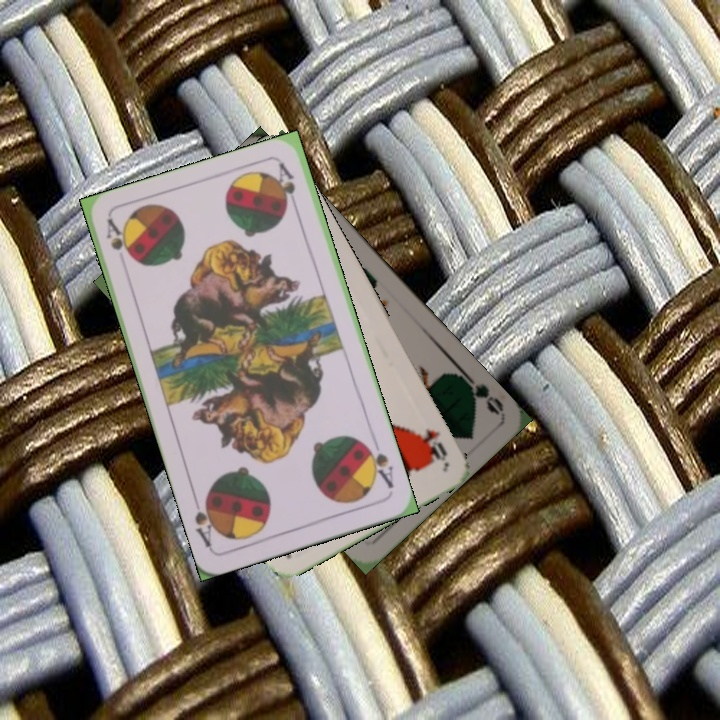GO: (454, 367, 506, 417)
HO: (414, 423, 450, 465)
SA: (360, 439, 397, 491), (101, 215, 134, 262)
